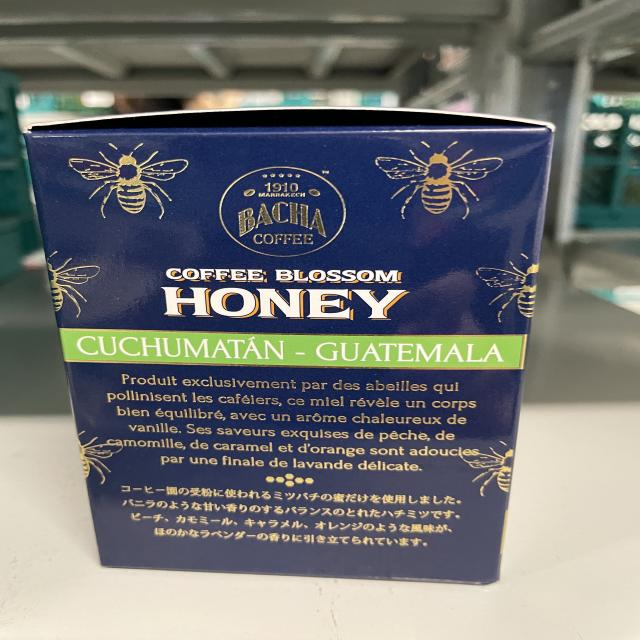object_name: (31, 115, 546, 578)
